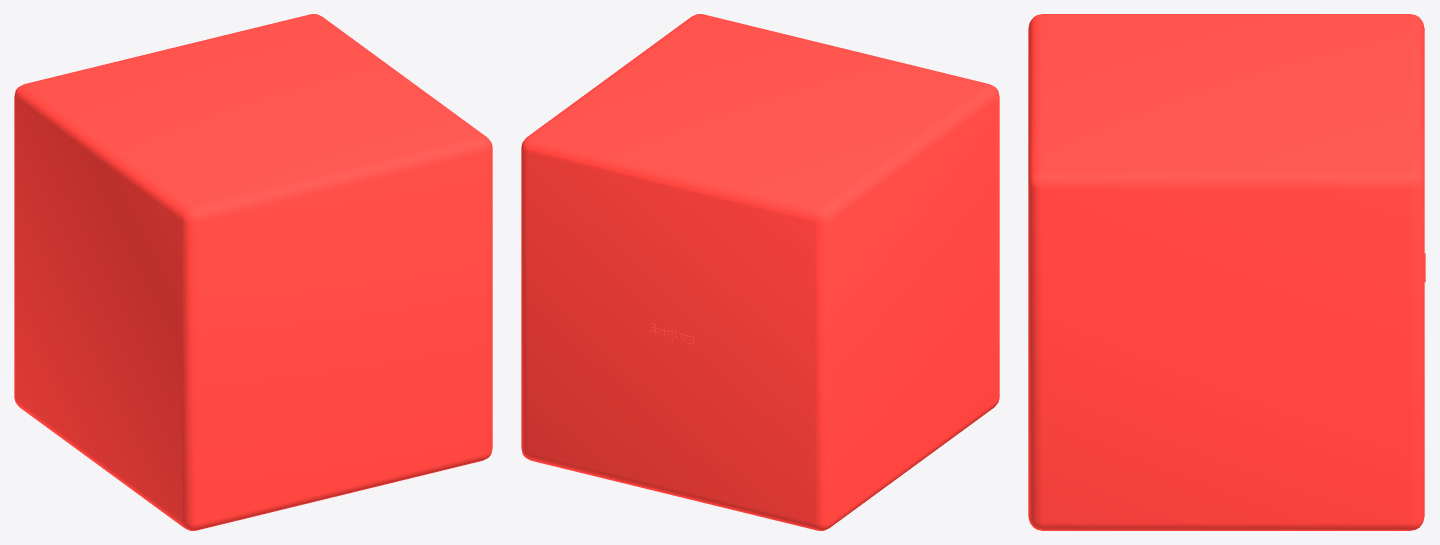
Rendered from red_square.gltf.
3 views of the same model, side by side, from view 1: azimuth 30°, elevation 25°; view 2: azimuth 150°, elevation 25°; view 3: azimuth 270°, elevation 25° (orthographic). The views are drawn at different scales.
Visible parts, largest first — view 1: red_square; view 2: red_square; view 3: red_square.
Boxes of the visible parts, <box> form: red_square: <box>14,14,492,530</box>; red_square: <box>521,14,999,530</box>; red_square: <box>1028,14,1425,530</box>.
Size of the model in its own units: 1.92 by 1.92 by 1.92.
Materials: 1 (1 with a texture image).
